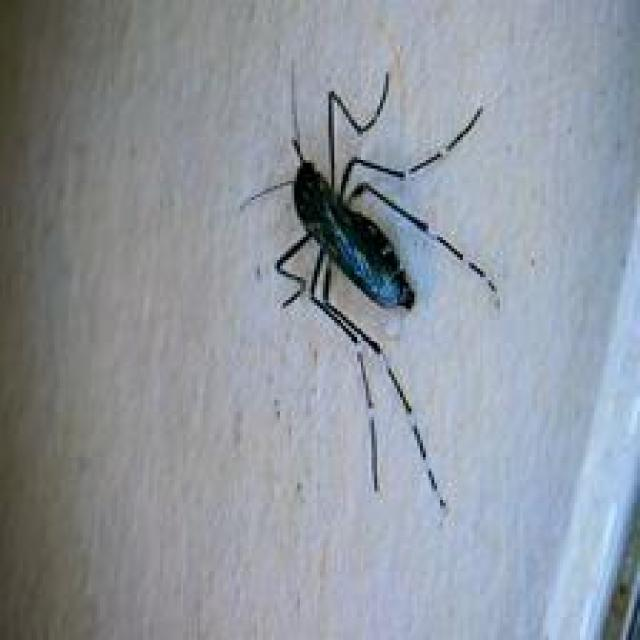Aedes albopictus: (238, 60, 502, 514)
